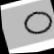no answer: (19, 5, 54, 37)
